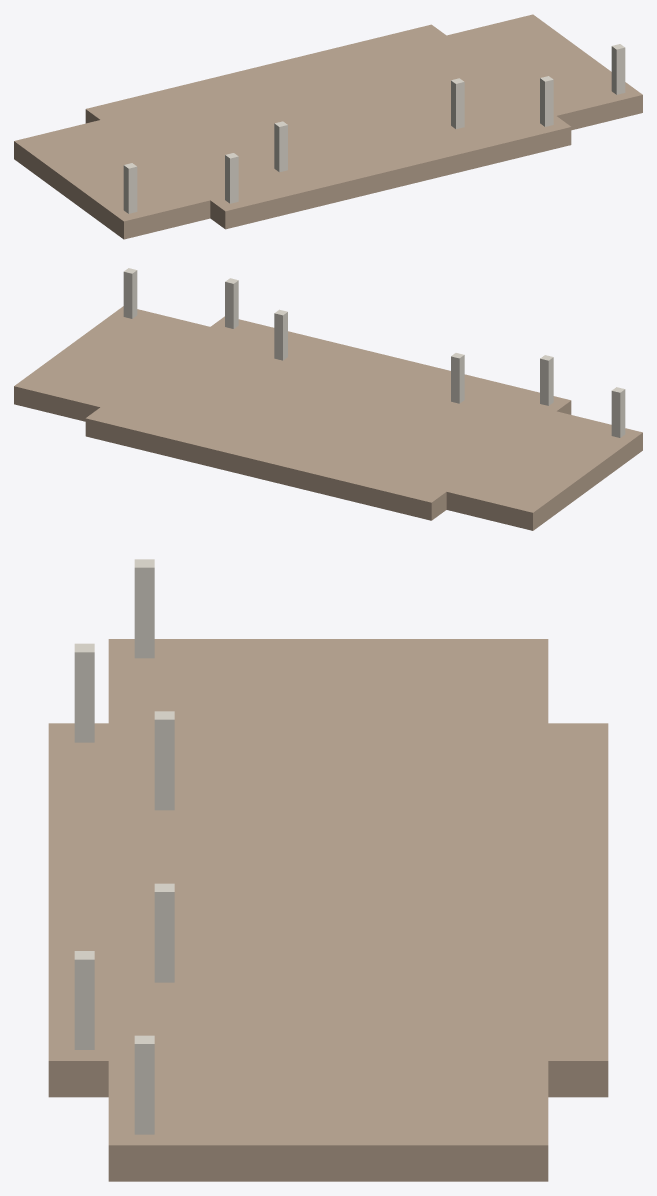
Rendered from MOD_DECK_TIMBER_COASTAL_001_LOD_GAMEPLAY.glb.
3 views of the same model, one above another, from view 1: azimuth 30°, elevation 25°; view 2: azimuth 150°, elevation 25°; view 3: azimuth 270°, elevation 25° (orthographic). The views are drawn at different scales.
Visible parts, largest first — view 1: MOD_DECK_TIMBER_COASTAL_001_WRAP_DECK_GAMEPLAY_PLATFORM, MOD_DECK_TIMBER_COASTAL_001_MEDIUM_DECK_GAMEPLAY_PLATFORM, MOD_DECK_TIMBER_COASTAL_001_SMALL_DECK_GAMEPLAY_PLATFORM, MOD_DECK_TIMBER_COASTAL_001_WRAP_DECK_GAMEPLAY_POST_02, MOD_DECK_TIMBER_COASTAL_001_WRAP_DECK_GAMEPLAY_POST_01, MOD_DECK_TIMBER_COASTAL_001_MEDIUM_DECK_GAMEPLAY_POST_02, MOD_DECK_TIMBER_COASTAL_001_MEDIUM_DECK_GAMEPLAY_POST_01, MOD_DECK_TIMBER_COASTAL_001_SMALL_DECK_GAMEPLAY_POST_01, MOD_DECK_TIMBER_COASTAL_001_SMALL_DECK_GAMEPLAY_POST_02; view 2: MOD_DECK_TIMBER_COASTAL_001_MEDIUM_DECK_GAMEPLAY_PLATFORM, MOD_DECK_TIMBER_COASTAL_001_WRAP_DECK_GAMEPLAY_PLATFORM, MOD_DECK_TIMBER_COASTAL_001_SMALL_DECK_GAMEPLAY_PLATFORM, MOD_DECK_TIMBER_COASTAL_001_WRAP_DECK_GAMEPLAY_POST_01, MOD_DECK_TIMBER_COASTAL_001_WRAP_DECK_GAMEPLAY_POST_02, MOD_DECK_TIMBER_COASTAL_001_MEDIUM_DECK_GAMEPLAY_POST_01, MOD_DECK_TIMBER_COASTAL_001_SMALL_DECK_GAMEPLAY_POST_02, MOD_DECK_TIMBER_COASTAL_001_MEDIUM_DECK_GAMEPLAY_POST_02, MOD_DECK_TIMBER_COASTAL_001_SMALL_DECK_GAMEPLAY_POST_01; view 3: MOD_DECK_TIMBER_COASTAL_001_MEDIUM_DECK_GAMEPLAY_PLATFORM, MOD_DECK_TIMBER_COASTAL_001_WRAP_DECK_GAMEPLAY_PLATFORM, MOD_DECK_TIMBER_COASTAL_001_MEDIUM_DECK_GAMEPLAY_POST_01, MOD_DECK_TIMBER_COASTAL_001_SMALL_DECK_GAMEPLAY_POST_01, MOD_DECK_TIMBER_COASTAL_001_SMALL_DECK_GAMEPLAY_POST_02, MOD_DECK_TIMBER_COASTAL_001_WRAP_DECK_GAMEPLAY_POST_01, MOD_DECK_TIMBER_COASTAL_001_WRAP_DECK_GAMEPLAY_POST_02, MOD_DECK_TIMBER_COASTAL_001_MEDIUM_DECK_GAMEPLAY_POST_02, MOD_DECK_TIMBER_COASTAL_001_SMALL_DECK_GAMEPLAY_PLATFORM.
Boxes of the visible parts, box(x1,y1,x2,y2) form: MOD_DECK_TIMBER_COASTAL_001_WRAP_DECK_GAMEPLAY_PLATFORM: box(14, 14, 642, 239); MOD_DECK_TIMBER_COASTAL_001_MEDIUM_DECK_GAMEPLAY_PLATFORM: box(85, 24, 571, 229); MOD_DECK_TIMBER_COASTAL_001_SMALL_DECK_GAMEPLAY_PLATFORM: box(175, 56, 481, 179); MOD_DECK_TIMBER_COASTAL_001_WRAP_DECK_GAMEPLAY_POST_02: box(611, 44, 625, 94); MOD_DECK_TIMBER_COASTAL_001_WRAP_DECK_GAMEPLAY_POST_01: box(123, 163, 137, 213); MOD_DECK_TIMBER_COASTAL_001_MEDIUM_DECK_GAMEPLAY_POST_02: box(540, 76, 553, 126); MOD_DECK_TIMBER_COASTAL_001_MEDIUM_DECK_GAMEPLAY_POST_01: box(225, 153, 238, 203); MOD_DECK_TIMBER_COASTAL_001_SMALL_DECK_GAMEPLAY_POST_01: box(274, 121, 287, 172); MOD_DECK_TIMBER_COASTAL_001_SMALL_DECK_GAMEPLAY_POST_02: box(451, 78, 464, 128); MOD_DECK_TIMBER_COASTAL_001_MEDIUM_DECK_GAMEPLAY_PLATFORM: box(85, 316, 571, 520); MOD_DECK_TIMBER_COASTAL_001_WRAP_DECK_GAMEPLAY_PLATFORM: box(14, 306, 642, 530); MOD_DECK_TIMBER_COASTAL_001_SMALL_DECK_GAMEPLAY_PLATFORM: box(258, 348, 454, 470); MOD_DECK_TIMBER_COASTAL_001_WRAP_DECK_GAMEPLAY_POST_01: box(611, 387, 625, 437); MOD_DECK_TIMBER_COASTAL_001_WRAP_DECK_GAMEPLAY_POST_02: box(123, 268, 137, 318); MOD_DECK_TIMBER_COASTAL_001_MEDIUM_DECK_GAMEPLAY_POST_01: box(540, 355, 553, 405); MOD_DECK_TIMBER_COASTAL_001_SMALL_DECK_GAMEPLAY_POST_02: box(274, 309, 287, 360); MOD_DECK_TIMBER_COASTAL_001_MEDIUM_DECK_GAMEPLAY_POST_02: box(225, 278, 238, 328); MOD_DECK_TIMBER_COASTAL_001_SMALL_DECK_GAMEPLAY_POST_01: box(451, 353, 464, 403); MOD_DECK_TIMBER_COASTAL_001_MEDIUM_DECK_GAMEPLAY_PLATFORM: box(48, 723, 608, 1097); MOD_DECK_TIMBER_COASTAL_001_WRAP_DECK_GAMEPLAY_PLATFORM: box(108, 639, 548, 1181); MOD_DECK_TIMBER_COASTAL_001_MEDIUM_DECK_GAMEPLAY_POST_01: box(74, 643, 94, 742); MOD_DECK_TIMBER_COASTAL_001_SMALL_DECK_GAMEPLAY_POST_01: box(154, 711, 174, 810); MOD_DECK_TIMBER_COASTAL_001_SMALL_DECK_GAMEPLAY_POST_02: box(154, 883, 174, 982); MOD_DECK_TIMBER_COASTAL_001_WRAP_DECK_GAMEPLAY_POST_01: box(134, 559, 154, 658); MOD_DECK_TIMBER_COASTAL_001_WRAP_DECK_GAMEPLAY_POST_02: box(134, 1035, 154, 1134); MOD_DECK_TIMBER_COASTAL_001_MEDIUM_DECK_GAMEPLAY_POST_02: box(74, 951, 94, 1049); MOD_DECK_TIMBER_COASTAL_001_SMALL_DECK_GAMEPLAY_PLATFORM: box(129, 791, 527, 943).
Bounding box in the file's own units: 6 × 0.7 × 2.8.
